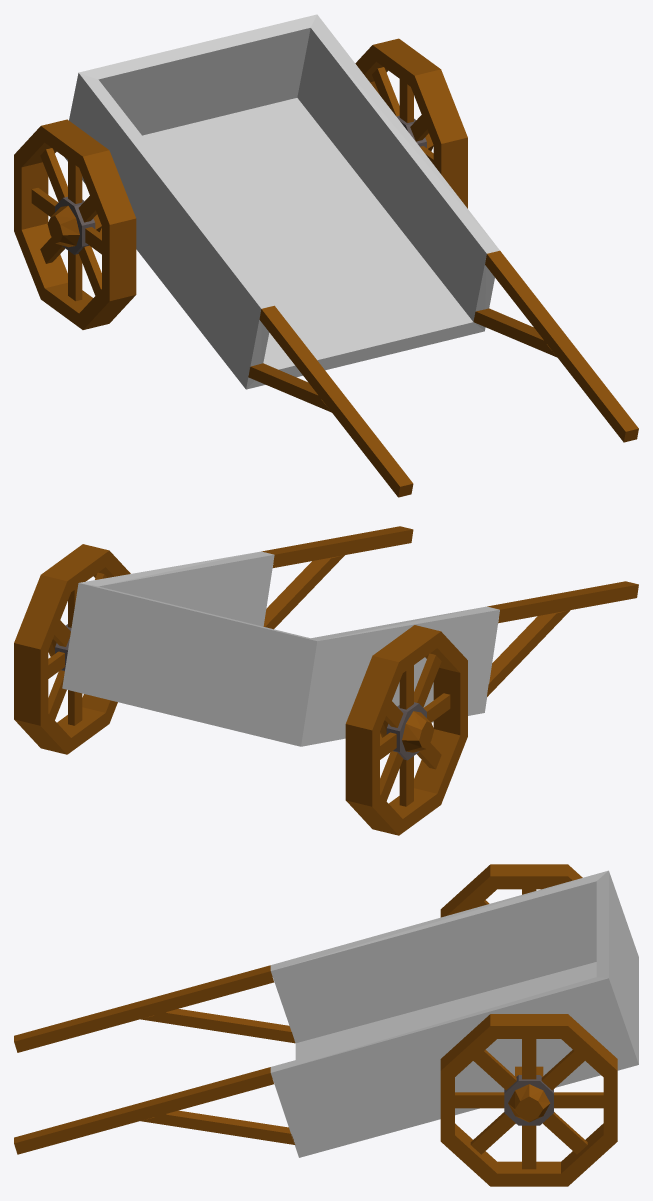
File: model_loc_307_8.obj
3 renders of one model, top to bottom at view 1: azimuth 30°, elevation 25°; view 2: azimuth 150°, elevation 25°; view 3: azimuth 270°, elevation 25°, orthographic. The views are drawn at different scales.
Visible parts, largest first — view 1: 1480; view 2: 1480; view 3: 1480.
Part boxes in pixels (box(x1,y1,x2,y2)): 1480: box(14, 14, 638, 497); 1480: box(14, 526, 638, 835); 1480: box(14, 864, 638, 1186).
Bounding box in the file's own units: 224 × 113 × 353.
